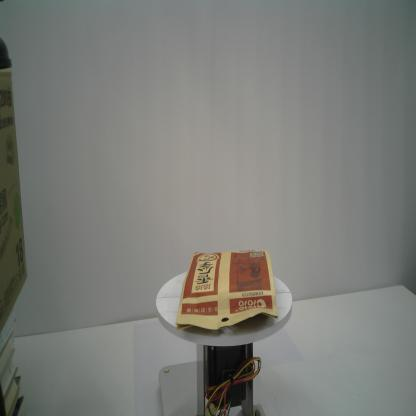Dried Food: (174, 248, 280, 334)
